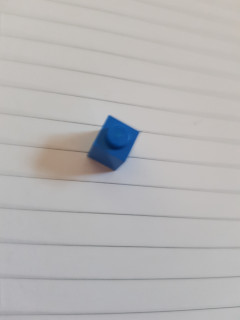1x1 blue: (84, 113, 143, 174)
